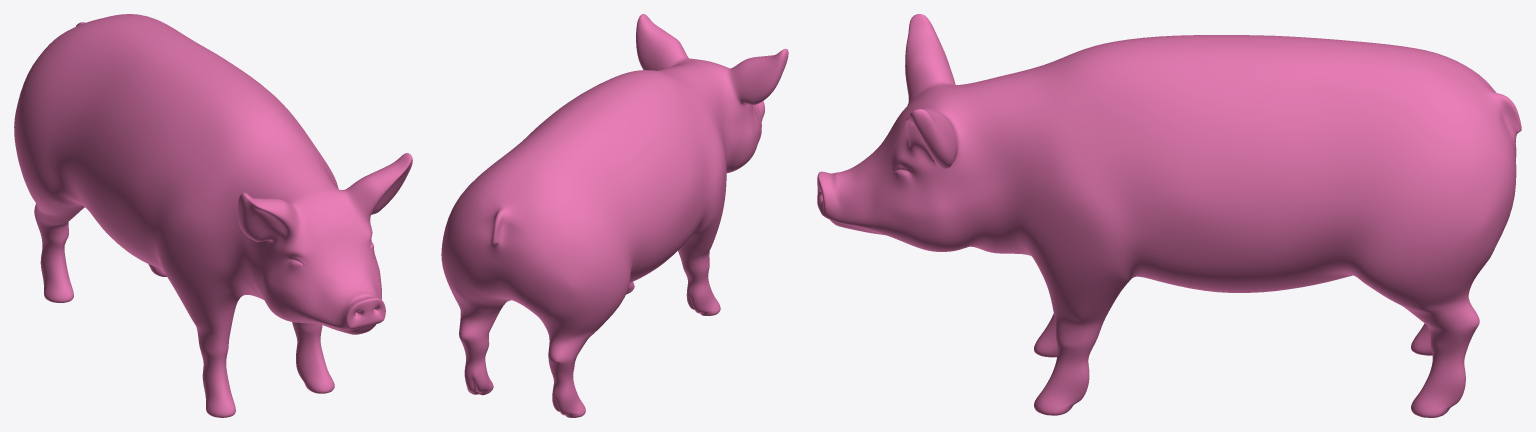
Rendered from Pig.fbx.
3 renders of one model, left to right at view 1: azimuth 30°, elevation 25°; view 2: azimuth 150°, elevation 25°; view 3: azimuth 270°, elevation 25°, orthographic. The views are drawn at different scales.
Visible parts, largest first — view 1: Cube; view 2: Cube; view 3: Cube.
Boxes of the visible parts, box(x1,y1,x2,y2) form: Cube: box(14, 14, 412, 417); Cube: box(441, 14, 788, 417); Cube: box(817, 14, 1521, 417).
Size of the model in its own units: 27.87 by 39.75 by 75.02.
